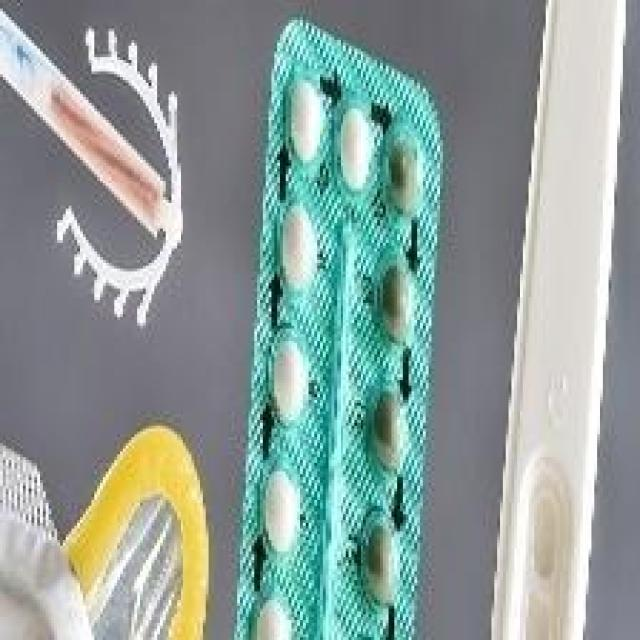Medicine: (229, 34, 462, 640)
